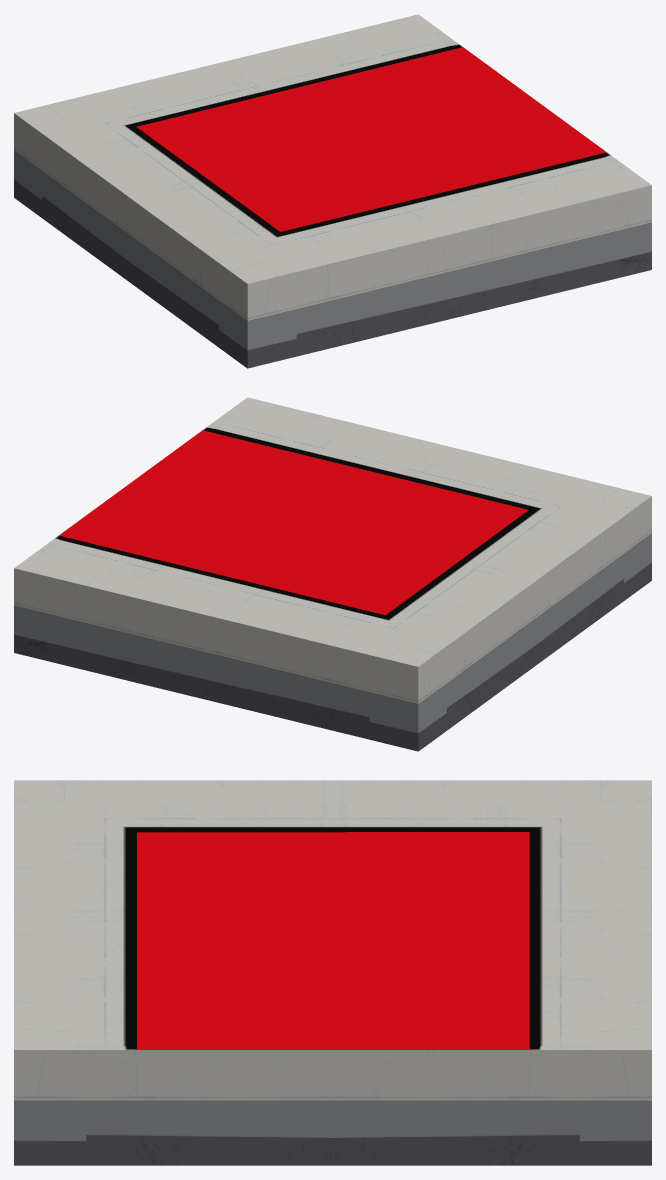
The model's file is G_Env_Arch_Floor_Metal_04_End.fbx.
3 views of the same model, one above another, from view 1: azimuth 30°, elevation 25°; view 2: azimuth 150°, elevation 25°; view 3: azimuth 270°, elevation 25° (orthographic). The views are drawn at different scales.
Parts seen in each view (by area): view 1: G_Env_Arch_Floor_Metal_04_End; view 2: G_Env_Arch_Floor_Metal_04_End; view 3: G_Env_Arch_Floor_Metal_04_End.
Part boxes in pixels (box(x1,y1,x2,y2)): G_Env_Arch_Floor_Metal_04_End: box(14, 14, 651, 368); G_Env_Arch_Floor_Metal_04_End: box(14, 397, 651, 751); G_Env_Arch_Floor_Metal_04_End: box(14, 780, 651, 1165).
Size of the model in its own units: 500 by 100 by 500.
